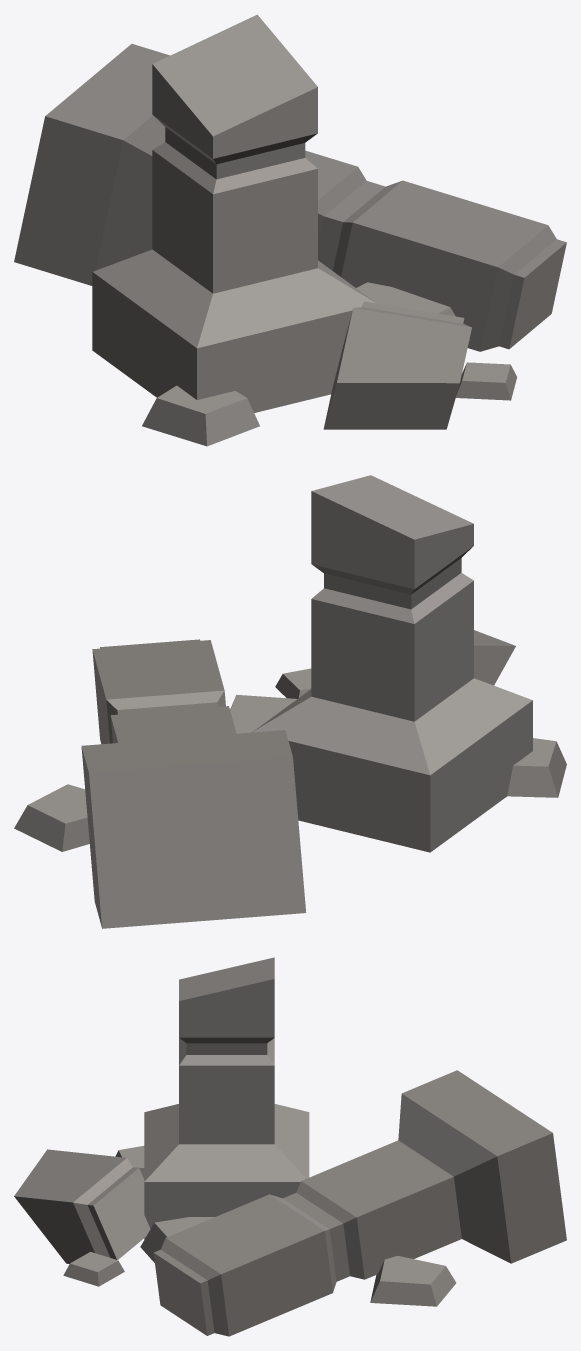
Rendered from SD_Env_Pillar_Stone_Broken_02.fbx.
The picture shows the model from 3 angles, top to bottom: view 1: azimuth 30°, elevation 25°; view 2: azimuth 150°, elevation 25°; view 3: azimuth 270°, elevation 25°; orthographic projection. The views are drawn at different scales.
Visible parts, largest first — view 1: SD_Env_Pillar_Stone_Broken_02; view 2: SD_Env_Pillar_Stone_Broken_02; view 3: SD_Env_Pillar_Stone_Broken_02.
Boxes of the visible parts, x1=… form: SD_Env_Pillar_Stone_Broken_02: x1=14, y1=14, x2=566, y2=446; SD_Env_Pillar_Stone_Broken_02: x1=14, y1=475, x2=566, y2=928; SD_Env_Pillar_Stone_Broken_02: x1=14, y1=957, x2=566, y2=1336.
Bounding box in the file's own units: 3.14 × 2.25 × 4.27.
